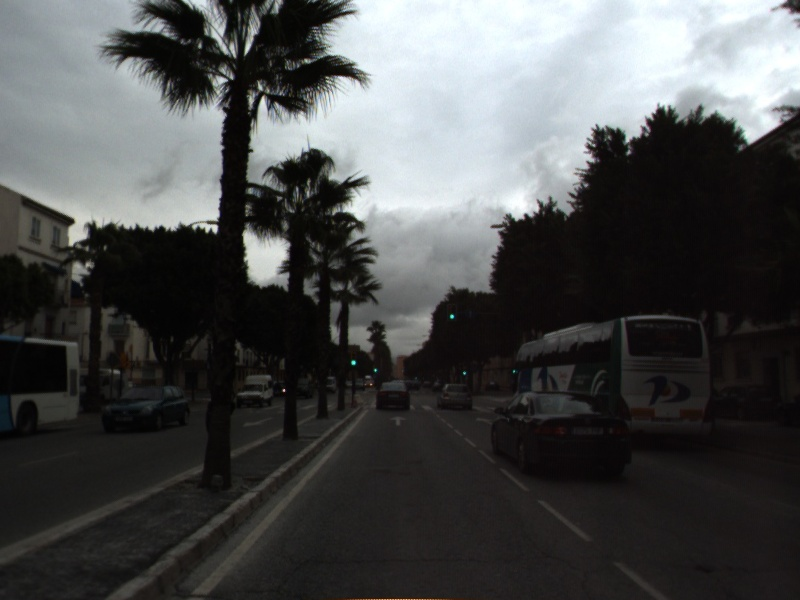STRAIGHT: (388, 414, 410, 427), (474, 415, 495, 426)
